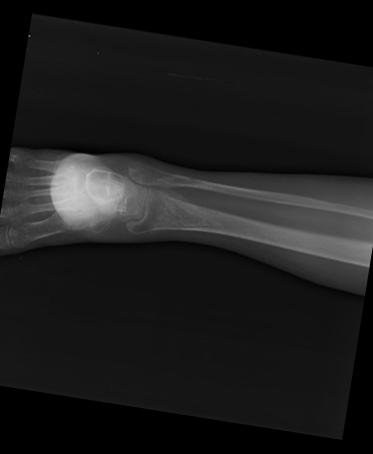fractured: (123, 187, 216, 235), (151, 172, 199, 191)
